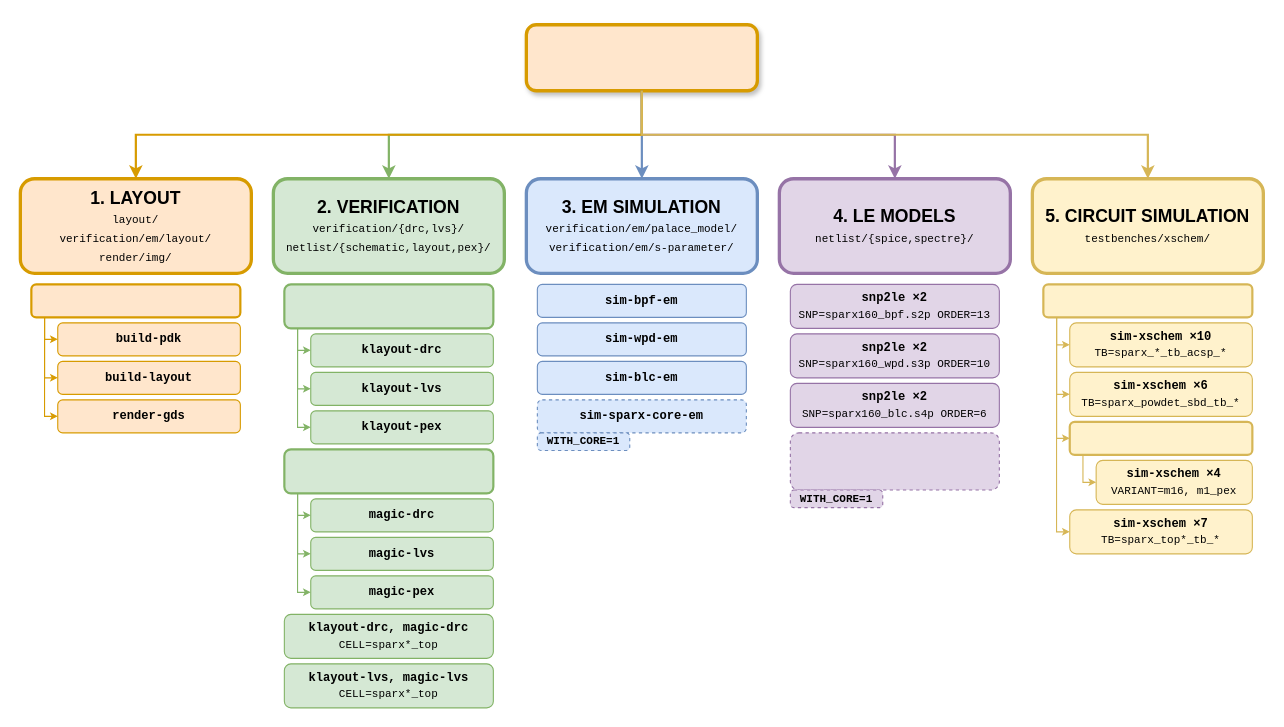
This 1284x727 diagram has some shape labels left out. Here are the shapes that lost their labels. From the top down, the centre of each, then its label:
point 642,59: make all
point 135,300: build-top
point 388,306: klayout-verify CELL=sparx_powdet_sbd
point 1147,300: sim-all
point 1160,437: sim-powdet-variants
point 388,471: magic-verify CELL=sparx_powdet_sbd
point 894,461: snp2le ×2 SNP=sparx160_core.s7p ORDER=24 LE_NOISE=thermal
